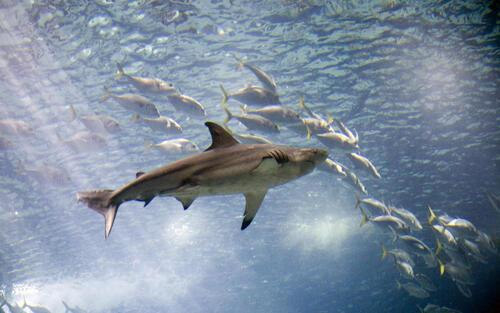shark: (77, 121, 330, 240)
